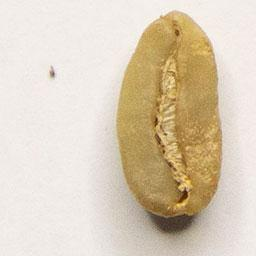longberry: (114, 8, 226, 221)
